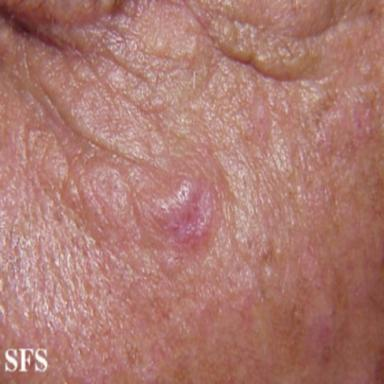basal-cell-carcinoma: (151, 179, 212, 243)
